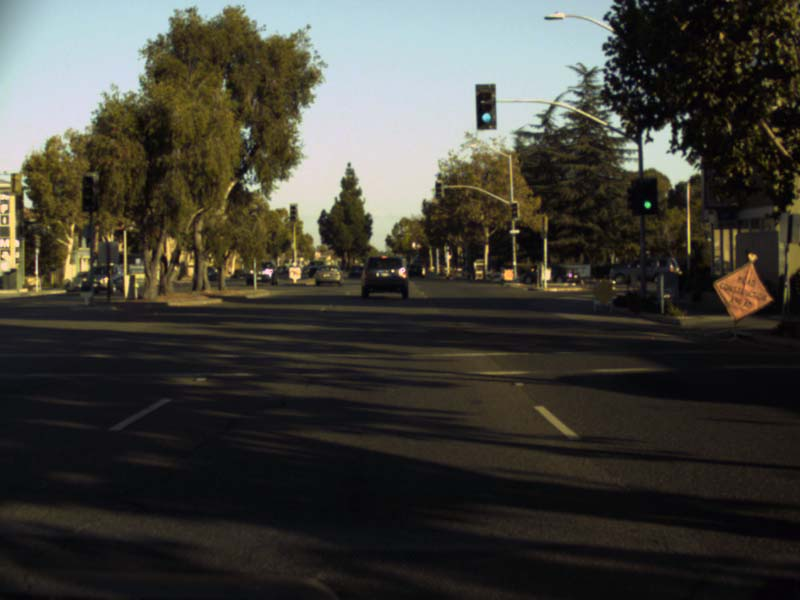Green: (475, 84, 496, 129), (639, 177, 657, 213)
